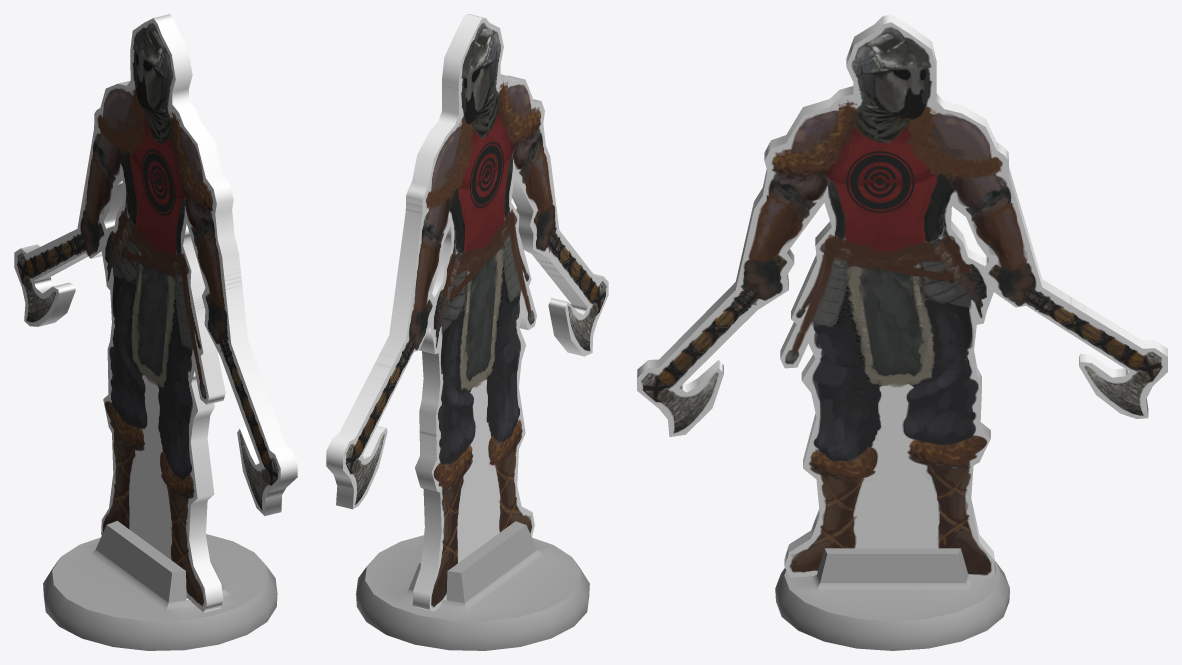
The model's file is viking.fbx.
3 views of the same model, side by side, from view 1: azimuth 30°, elevation 25°; view 2: azimuth 150°, elevation 25°; view 3: azimuth 270°, elevation 25° (orthographic).
Visible parts, largest first — view 1: viking, pion; view 2: viking, pion; view 3: viking, pion.
Boxes of the visible parts, <box> form: viking: <box>14,14,297,612</box>; pion: <box>43,521,277,650</box>; viking: <box>326,14,608,611</box>; pion: <box>356,521,589,650</box>; viking: <box>637,14,1167,579</box>; pion: <box>775,548,1009,650</box>.
Size of the model in its own units: 1.98 by 5.43 by 4.47.
2 materials, 1 textured.
